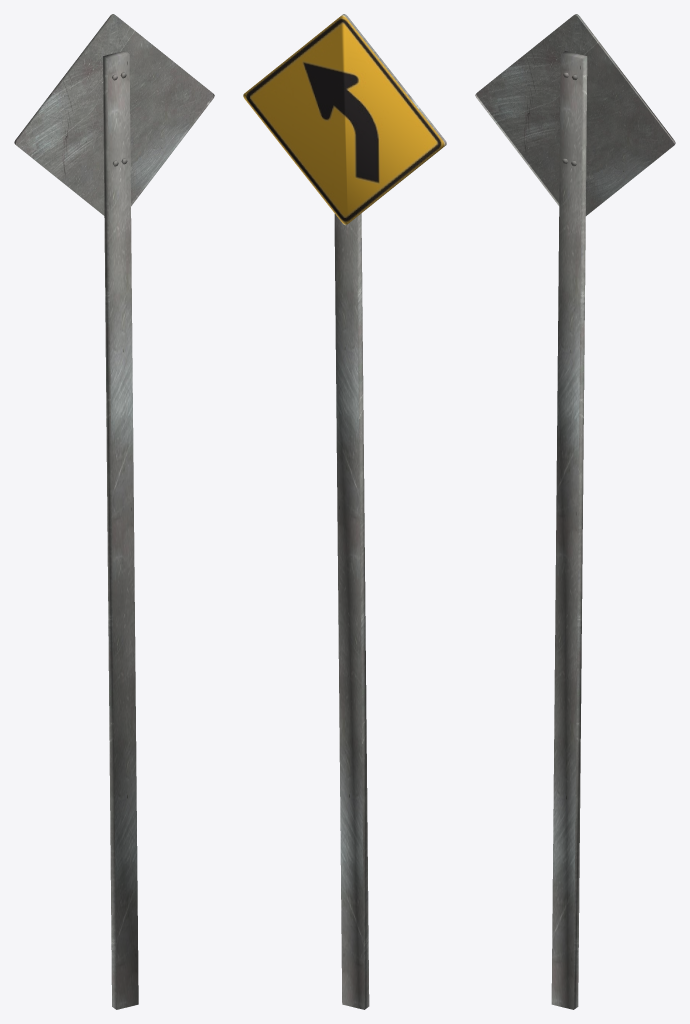
Rendered from curve_left.obj.
3 views of the same model, side by side, from view 1: azimuth 30°, elevation 25°; view 2: azimuth 150°, elevation 25°; view 3: azimuth 330°, elevation 25° (orthographic).
Parts seen in each view (by area): view 1: Pole_46, Sign_metal_back35, Temp_Turn_Left_pivot; view 2: Pole_46, Temp_Turn_Left; view 3: Pole_46, Sign_metal_back35, Temp_Turn_Left_pivot.
Part boxes in pixels (box(x1,y1,x2,y2)): Pole_46: box(103, 51, 138, 1009); Sign_metal_back35: box(16, 15, 213, 215); Temp_Turn_Left_pivot: box(14, 14, 214, 214); Pole_46: box(334, 213, 369, 1009); Temp_Turn_Left: box(243, 15, 445, 225); Pole_46: box(551, 51, 587, 1009); Sign_metal_back35: box(477, 15, 673, 215); Temp_Turn_Left_pivot: box(475, 14, 675, 213).
Size of the model in its own units: 0.5419 by 2.56 by 0.0697.
3 materials, 3 textured.
